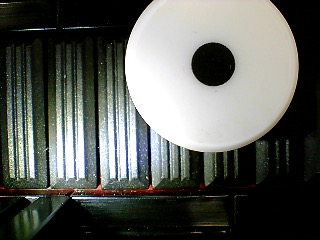BOHO: (125, 1, 299, 153)
